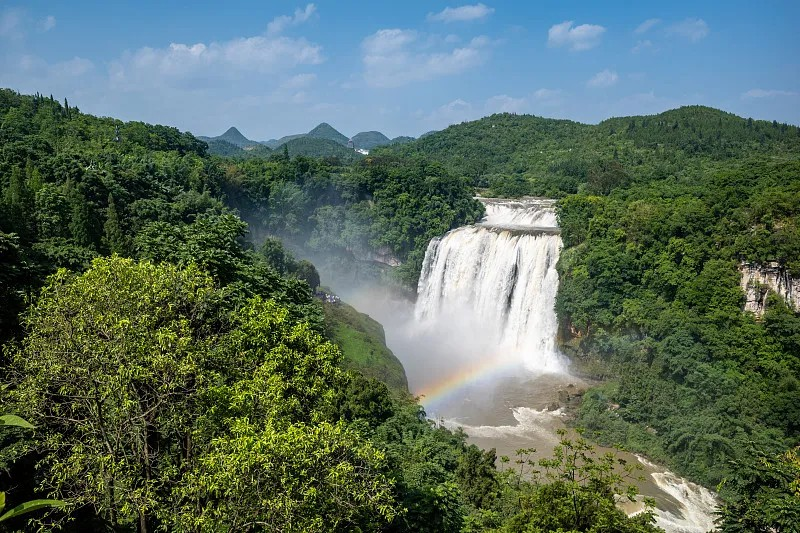Huangguoshu: (414, 198, 564, 380)
